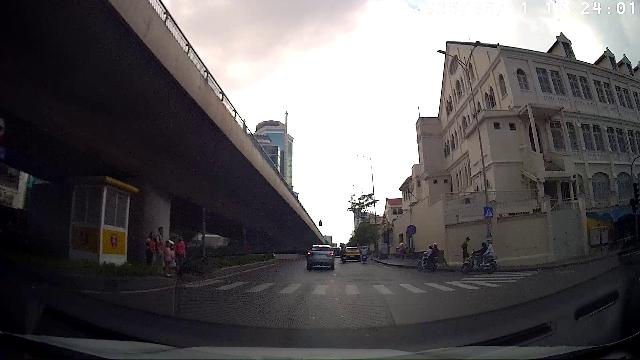423a-duong-nguoi-di-bo-sang-ngang-1: (484, 206, 494, 218)
